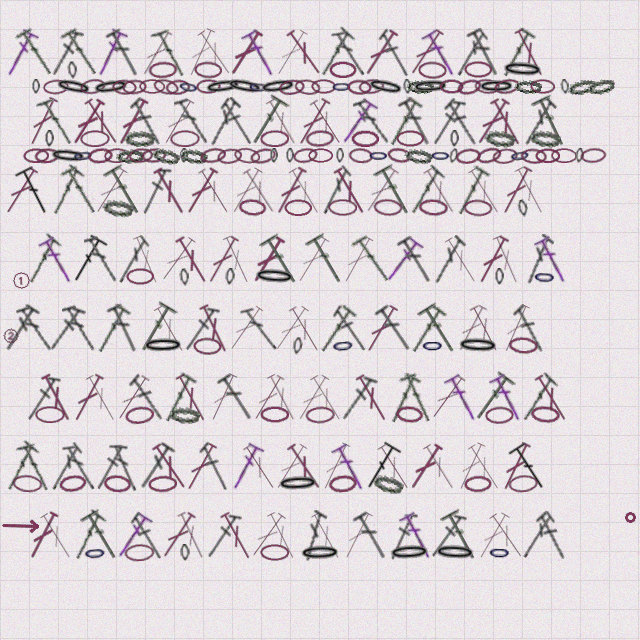chain: (54, 76, 93, 98), (366, 76, 405, 98), (225, 76, 264, 97), (501, 60, 544, 79), (253, 267, 296, 286), (388, 543, 431, 562), (371, 472, 405, 496), (457, 336, 499, 355), (277, 474, 319, 493), (434, 543, 476, 562), (92, 77, 130, 97), (299, 544, 341, 562), (204, 77, 242, 96), (259, 77, 297, 96), (142, 337, 184, 354), (49, 147, 87, 165), (566, 76, 597, 98), (102, 198, 134, 218), (586, 76, 616, 97), (58, 473, 88, 494), (412, 78, 449, 95), (124, 405, 155, 425), (484, 129, 516, 148), (529, 129, 561, 148), (151, 146, 181, 166), (12, 474, 43, 493), (124, 543, 155, 562), (475, 145, 503, 166), (305, 129, 335, 148), (373, 198, 403, 217), (418, 198, 448, 217), (508, 336, 538, 355), (530, 405, 560, 424), (508, 474, 538, 493), (152, 77, 180, 97), (249, 146, 277, 166), (169, 406, 200, 424), (478, 79, 515, 94), (238, 198, 267, 217), (395, 405, 424, 424), (103, 474, 132, 493), (328, 474, 357, 493), (148, 61, 178, 79), (456, 77, 483, 97), (463, 199, 493, 217), (305, 406, 335, 424), (79, 77, 107, 96), (493, 77, 521, 96), (199, 146, 227, 165), (233, 146, 261, 165), (124, 130, 155, 147), (418, 61, 447, 79), (179, 147, 208, 165), (404, 147, 433, 165), (193, 337, 222, 355), (485, 406, 514, 424), (148, 475, 177, 493), (292, 146, 319, 165), (386, 146, 413, 165), (80, 130, 110, 147), (170, 130, 200, 147), (35, 406, 65, 423), (194, 61, 222, 79), (464, 475, 492, 493), (260, 130, 289, 147), (328, 199, 357, 216), (260, 406, 289, 423), (260, 544, 289, 561), (278, 78, 305, 96), (294, 78, 321, 96), (216, 147, 243, 165), (329, 61, 357, 78), (464, 61, 492, 78), (351, 130, 379, 147), (396, 130, 424, 147), (284, 199, 312, 216), (126, 268, 154, 285), (455, 147, 481, 165), (492, 147, 518, 165), (358, 78, 385, 95), (580, 147, 607, 164), (331, 336, 355, 355), (116, 148, 144, 164), (474, 78, 500, 95), (34, 147, 60, 164), (87, 147, 113, 164), (128, 147, 154, 164), (141, 147, 167, 164), (348, 147, 374, 164), (520, 148, 547, 164), (83, 544, 107, 562), (406, 79, 434, 94), (514, 79, 542, 94), (43, 79, 69, 95), (165, 79, 191, 95), (177, 78, 200, 96), (533, 268, 556, 286), (112, 79, 137, 95), (122, 79, 147, 95), (347, 79, 372, 95), (421, 337, 444, 354), (488, 544, 511, 561), (139, 79, 165, 94), (23, 148, 49, 163), (551, 148, 577, 163), (196, 79, 221, 94), (311, 79, 336, 94), (439, 79, 464, 94), (530, 79, 555, 94), (104, 148, 129, 163), (308, 148, 333, 163), (535, 148, 560, 163), (72, 147, 94, 164), (509, 147, 531, 164), (248, 79, 269, 95), (331, 79, 352, 94), (368, 148, 389, 163), (430, 148, 451, 163), (517, 199, 529, 217), (67, 61, 78, 79), (179, 268, 190, 286), (292, 337, 303, 355), (448, 148, 459, 164), (225, 268, 235, 285), (180, 544, 190, 561), (45, 130, 54, 147), (450, 130, 459, 147), (495, 268, 504, 285), (560, 79, 570, 94), (403, 79, 412, 94), (575, 148, 584, 163), (32, 79, 40, 94), (180, 148, 188, 163), (270, 148, 278, 163), (286, 148, 294, 163), (336, 148, 344, 163)
double: (469, 371, 516, 425), (245, 94, 290, 149), (259, 233, 304, 287), (417, 302, 462, 356), (507, 440, 552, 494), (103, 163, 147, 218), (373, 163, 417, 218), (305, 232, 349, 287), (134, 301, 178, 356), (80, 508, 124, 563), (359, 440, 403, 494), (440, 508, 483, 563), (313, 303, 358, 355), (66, 233, 109, 287), (404, 303, 448, 355), (516, 372, 560, 424), (314, 26, 357, 79), (404, 164, 447, 217), (350, 233, 393, 286), (531, 94, 572, 149), (14, 26, 56, 79), (59, 26, 101, 79), (495, 26, 537, 79), (382, 95, 424, 148), (90, 302, 132, 355), (14, 164, 55, 218), (381, 235, 425, 285), (283, 27, 326, 78), (156, 234, 199, 285), (224, 303, 267, 354), (426, 372, 469, 423), (246, 510, 289, 561), (239, 441, 281, 493), (36, 95, 77, 148), (59, 164, 100, 217), (450, 164, 491, 217), (22, 233, 63, 286), (157, 371, 198, 424), (0, 440, 41, 493), (150, 26, 190, 80), (194, 27, 236, 78), (405, 27, 447, 78), (81, 96, 123, 147), (337, 96, 379, 147), (360, 165, 402, 216), (270, 303, 312, 354), (374, 303, 416, 354), (216, 372, 258, 423), (149, 441, 191, 492), (284, 441, 326, 492), (112, 510, 154, 561), (157, 510, 199, 561), (486, 510, 528, 561), (225, 27, 266, 79), (360, 27, 401, 79), (67, 96, 108, 148), (306, 96, 347, 148), (472, 96, 513, 148), (0, 165, 41, 217), (90, 165, 131, 217), (194, 165, 235, 217), (239, 165, 280, 217), (464, 165, 505, 217), (292, 234, 333, 286), (396, 234, 437, 286), (441, 234, 482, 286), (0, 303, 41, 355), (112, 372, 153, 424), (292, 372, 333, 424), (306, 372, 347, 424), (531, 372, 572, 424), (135, 441, 176, 493), (270, 441, 311, 493), (374, 441, 415, 493), (405, 441, 446, 493), (419, 441, 460, 493), (464, 441, 505, 493), (36, 510, 77, 562), (46, 164, 86, 217), (68, 509, 108, 562), (383, 371, 422, 425), (136, 27, 176, 79), (271, 27, 311, 79), (420, 27, 460, 79), (158, 96, 198, 148), (262, 96, 302, 148), (293, 96, 333, 148), (150, 165, 190, 217), (181, 165, 221, 217), (226, 165, 266, 217), (285, 165, 325, 217), (330, 165, 370, 217), (420, 165, 460, 217), (37, 234, 77, 286), (172, 234, 212, 286), (248, 234, 288, 286), (150, 303, 190, 355), (285, 303, 325, 355), (361, 303, 401, 355), (248, 372, 288, 424), (352, 372, 392, 424), (352, 510, 392, 562), (473, 510, 513, 562), (16, 440, 54, 494), (1, 27, 40, 79), (105, 27, 144, 79), (240, 27, 279, 79), (113, 96, 152, 148), (397, 96, 436, 148), (487, 96, 526, 148), (271, 165, 310, 217), (203, 234, 242, 286), (338, 234, 377, 286), (473, 234, 512, 286), (68, 372, 107, 424), (82, 372, 121, 424), (172, 372, 211, 424), (181, 441, 220, 493), (330, 441, 369, 493), (217, 510, 256, 562), (307, 510, 346, 562), (466, 26, 504, 79), (511, 26, 549, 79), (497, 164, 535, 217), (511, 164, 549, 217), (533, 233, 571, 286), (452, 302, 490, 355), (466, 302, 504, 355), (38, 371, 76, 424), (263, 371, 301, 424), (443, 371, 481, 424), (488, 371, 526, 424), (227, 440, 265, 493), (24, 509, 62, 562), (263, 509, 301, 562), (398, 509, 436, 562), (518, 97, 558, 147), (338, 373, 378, 423), (398, 371, 435, 425), (92, 26, 129, 79), (24, 95, 61, 148), (106, 302, 143, 355), (196, 302, 233, 355), (317, 440, 354, 493), (497, 440, 534, 493), (173, 509, 210, 562), (339, 509, 376, 562), (46, 304, 86, 353), (240, 304, 280, 353), (330, 304, 370, 353), (127, 373, 167, 422), (442, 97, 481, 147), (428, 235, 467, 285), (428, 511, 467, 560), (518, 511, 557, 560), (183, 26, 219, 79), (219, 233, 255, 286), (498, 302, 534, 355), (205, 371, 241, 424), (453, 440, 489, 493), (452, 28, 490, 78), (204, 97, 242, 147), (353, 97, 391, 147), (16, 304, 54, 354), (128, 511, 166, 561), (128, 96, 165, 147), (511, 303, 548, 354), (218, 97, 256, 146), (182, 304, 220, 353), (204, 511, 242, 560), (129, 233, 164, 286), (489, 233, 524, 286), (331, 28, 368, 78), (376, 28, 413, 78), (114, 235, 151, 285), (24, 373, 61, 423), (47, 442, 84, 492), (48, 27, 84, 78), (174, 96, 210, 147), (534, 510, 570, 561), (430, 97, 466, 147), (62, 442, 98, 492), (318, 165, 353, 216), (84, 234, 119, 285), (520, 234, 555, 285), (62, 303, 97, 354), (93, 441, 128, 492), (197, 441, 232, 492), (139, 165, 172, 216), (109, 441, 140, 493), (387, 510, 418, 562), (298, 510, 328, 562)
noise: (1, 517, 41, 534), (11, 270, 31, 290), (1, 326, 20, 345), (623, 510, 637, 524)
